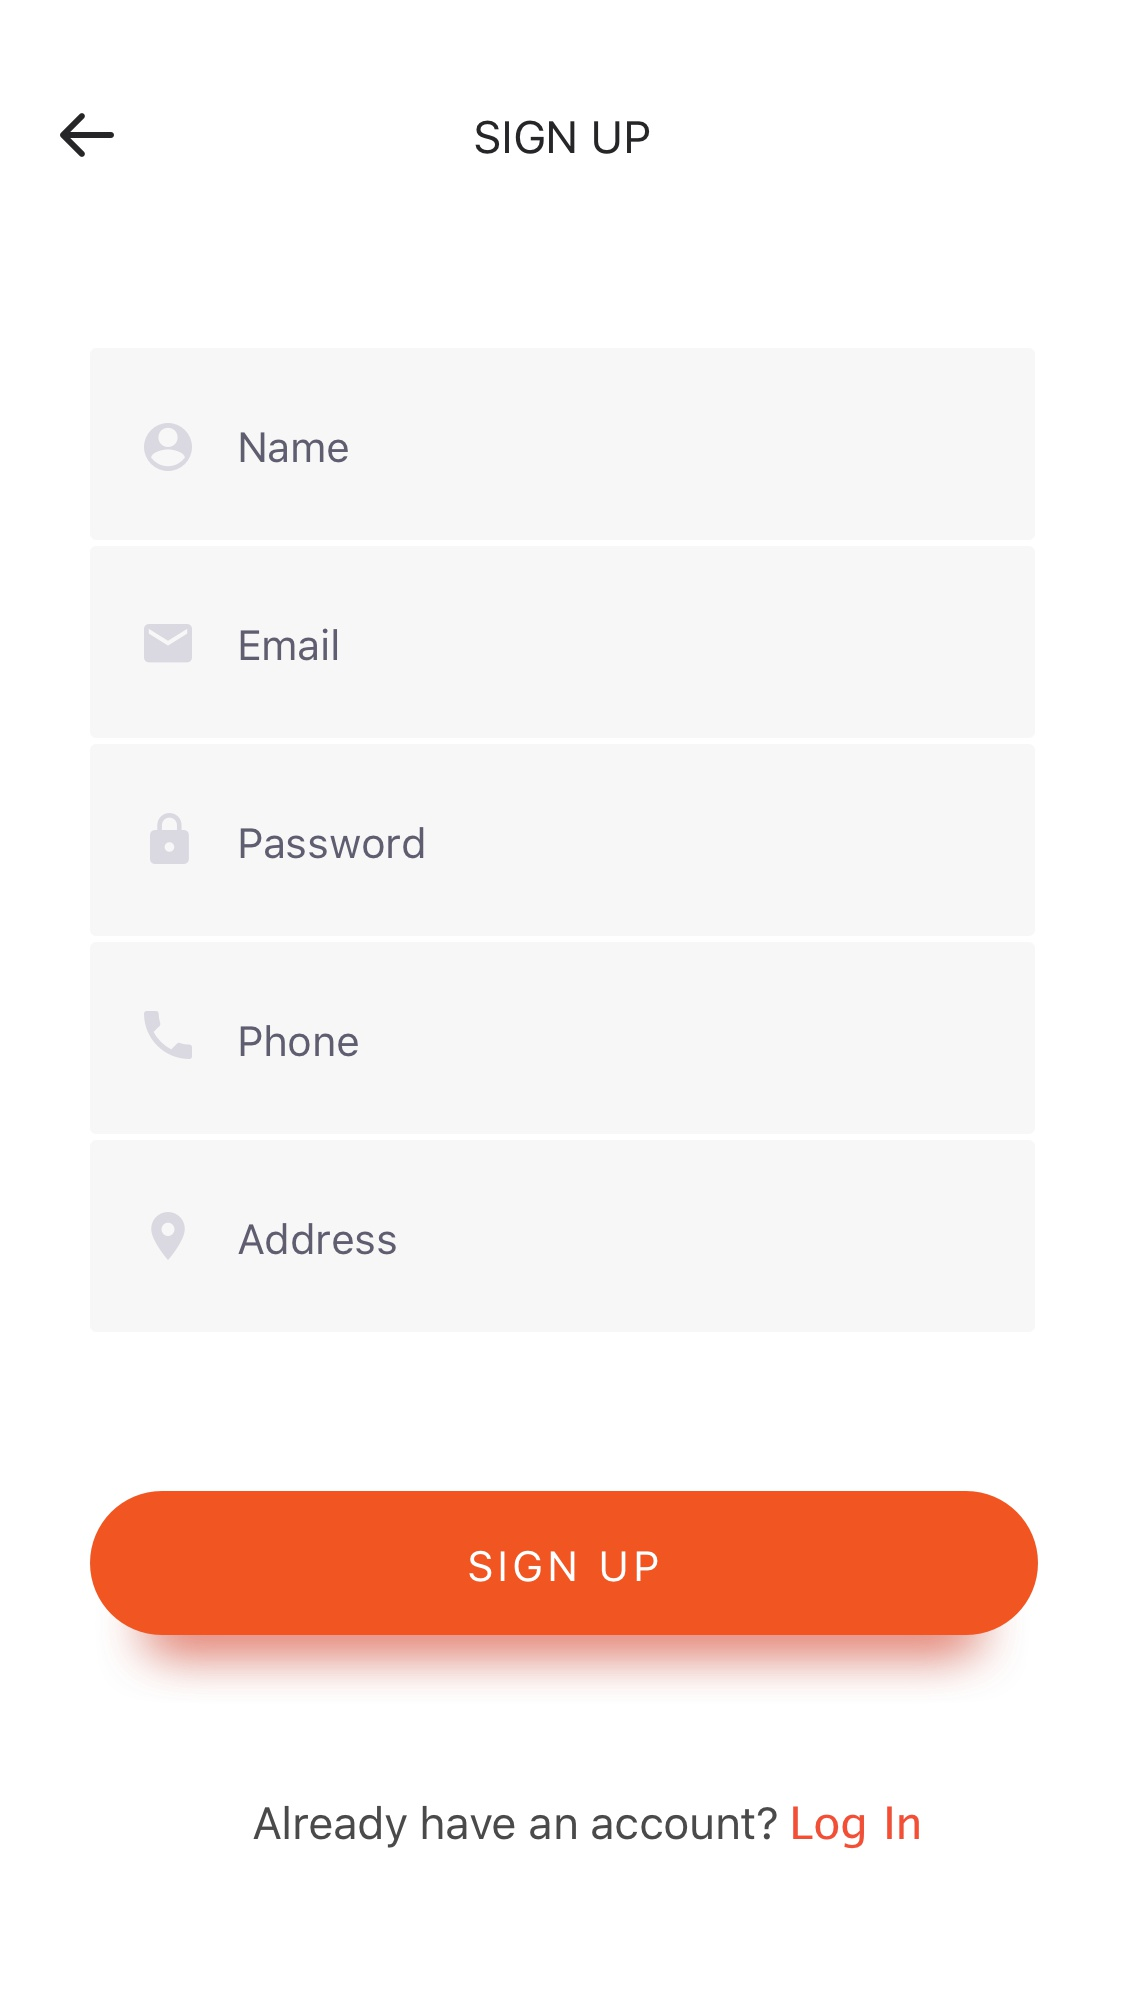EditText: (91, 348, 1036, 541), (91, 941, 1036, 1135), (91, 546, 1034, 739), (91, 744, 1034, 937), (91, 1141, 1036, 1333)
Icon: (60, 113, 115, 159), (144, 423, 194, 473), (150, 814, 190, 864), (144, 624, 194, 664), (151, 1212, 185, 1262)
Image: (144, 1011, 194, 1060)
Text: (253, 1804, 920, 1848), (475, 120, 650, 157), (240, 827, 424, 860), (238, 1223, 397, 1256), (240, 1025, 359, 1058), (240, 432, 349, 465), (240, 628, 339, 662)
TextButton: (91, 1491, 1038, 1635)
